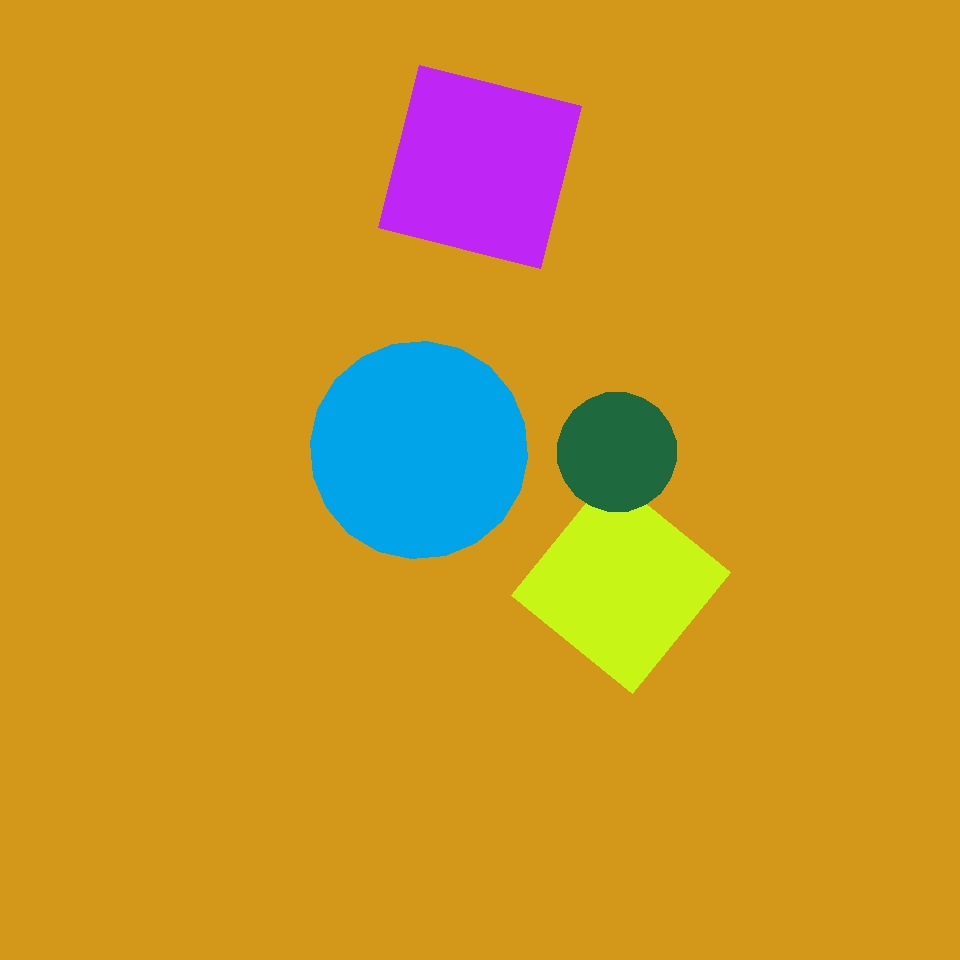square: (325, 548, 661, 884), (395, 508, 642, 756), (592, 373, 817, 598), (512, 474, 730, 693), (378, 66, 582, 268), (389, 254, 479, 345)
triangle: (310, 342, 528, 558), (558, 392, 676, 512)
